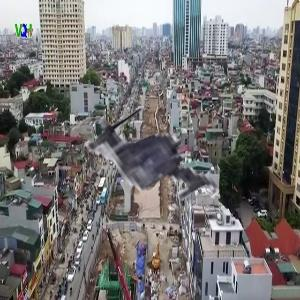drone: (72, 83, 230, 241)
